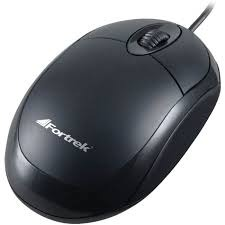mouse: (5, 12, 223, 225)
